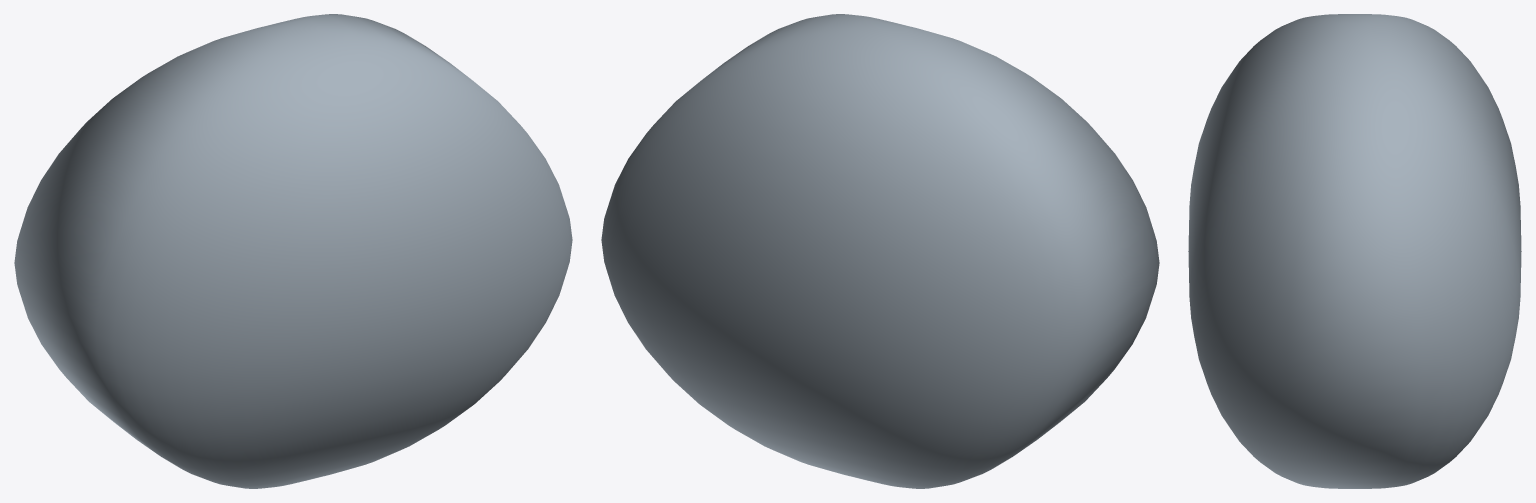
The model's file is variant-e.glb.
3 views of the same model, side by side, from view 1: azimuth 30°, elevation 25°; view 2: azimuth 150°, elevation 25°; view 3: azimuth 270°, elevation 25° (orthographic).
Bounding box in the file's own units: 2.8 × 2.56 × 1.76.
